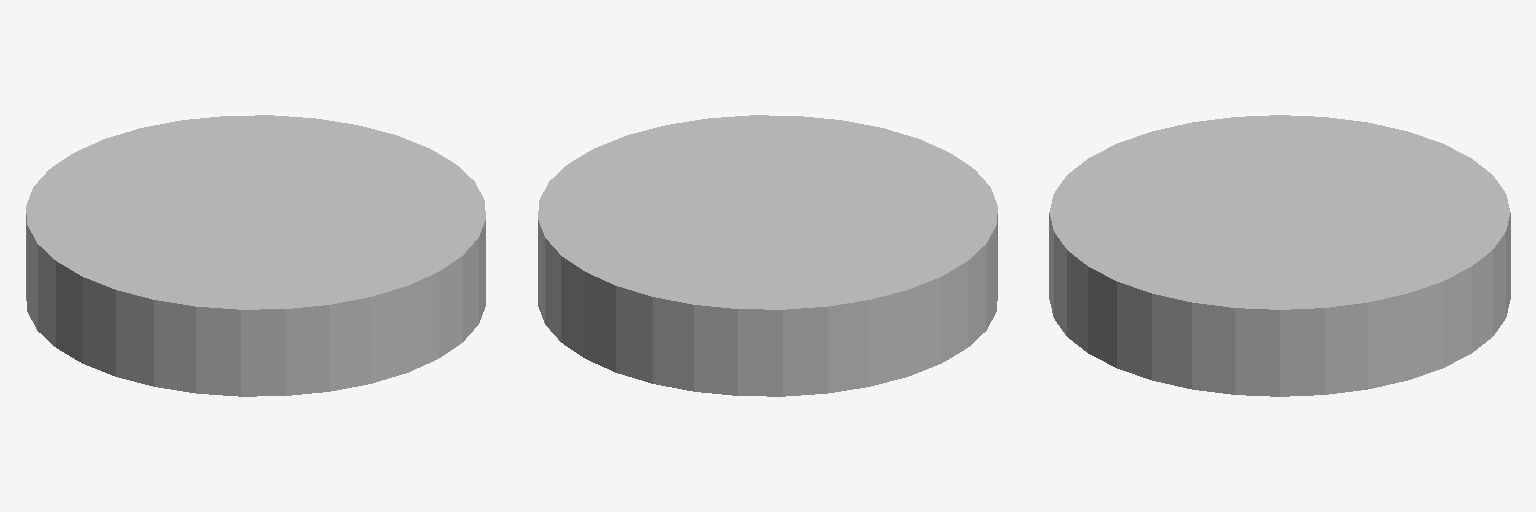
File: roomba_Button.obj
The picture shows the model from 3 angles: view 1: azimuth 30°, elevation 25°; view 2: azimuth 150°, elevation 25°; view 3: azimuth 270°, elevation 25°; orthographic projection.
Visible parts, largest first — view 1: Cylinder.003_Cylinder.004; view 2: Cylinder.003_Cylinder.004; view 3: Cylinder.003_Cylinder.004.
Boxes of the visible parts, box(x1,y1,x2,y2) form: Cylinder.003_Cylinder.004: box(26, 115, 485, 396); Cylinder.003_Cylinder.004: box(538, 115, 997, 396); Cylinder.003_Cylinder.004: box(1049, 115, 1510, 396).
Size of the model in its own units: 0.1781 by 0.037 by 0.1781.